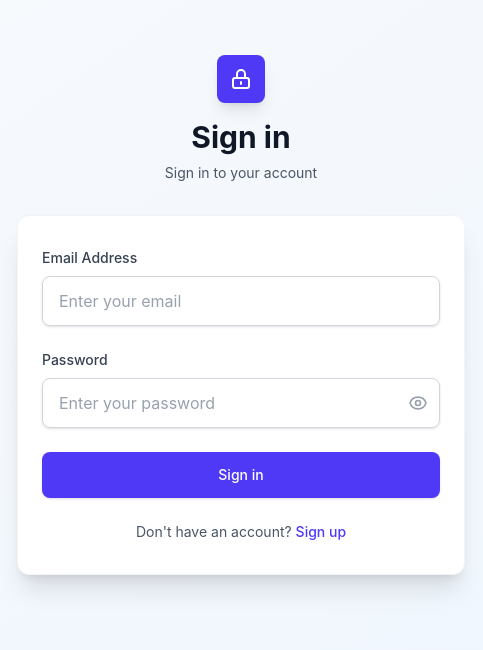
Scenario: LoginPage › displays error message when login fails
The image size is (483, 650).
Type "test@test.com" into the field labelled "Email Address" at (241, 301), box 42,276 -> 440,326
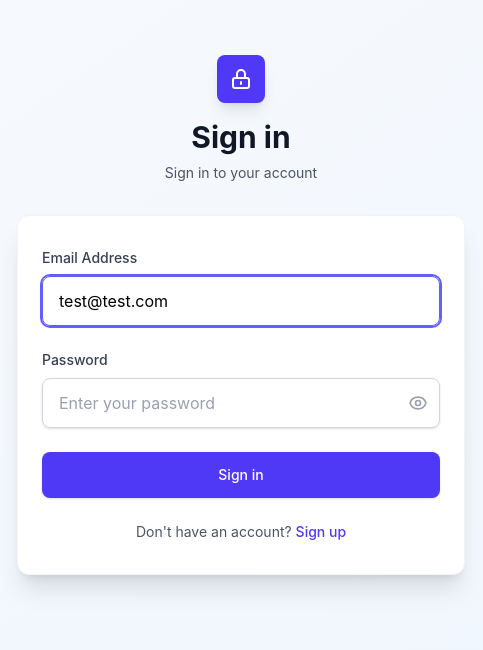
Type "password123" into the password field labelled "Password" at (241, 403), box 42,378 -> 440,428
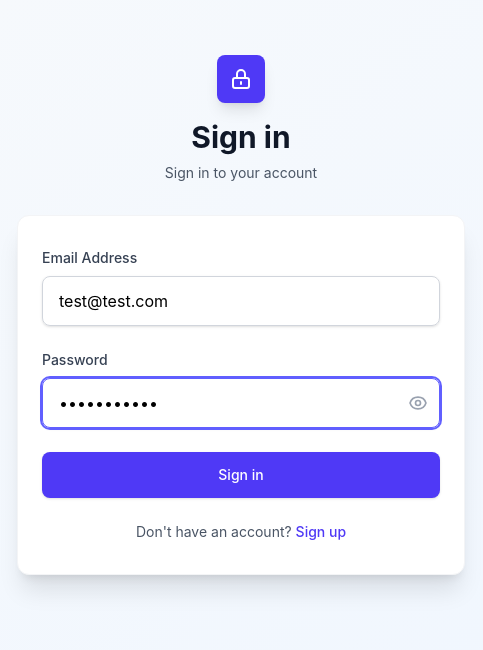
Click the button "Sign in" at (241, 475), box 42,452 -> 440,498
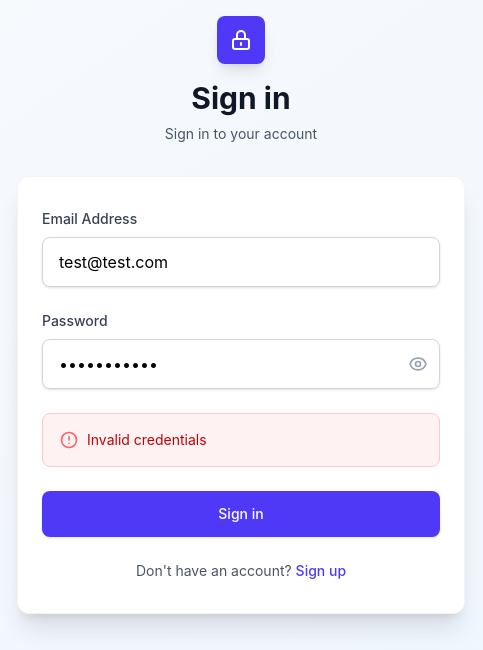
Expected: the text "Invalid credentials" is shown, 87,430 -> 207,450
